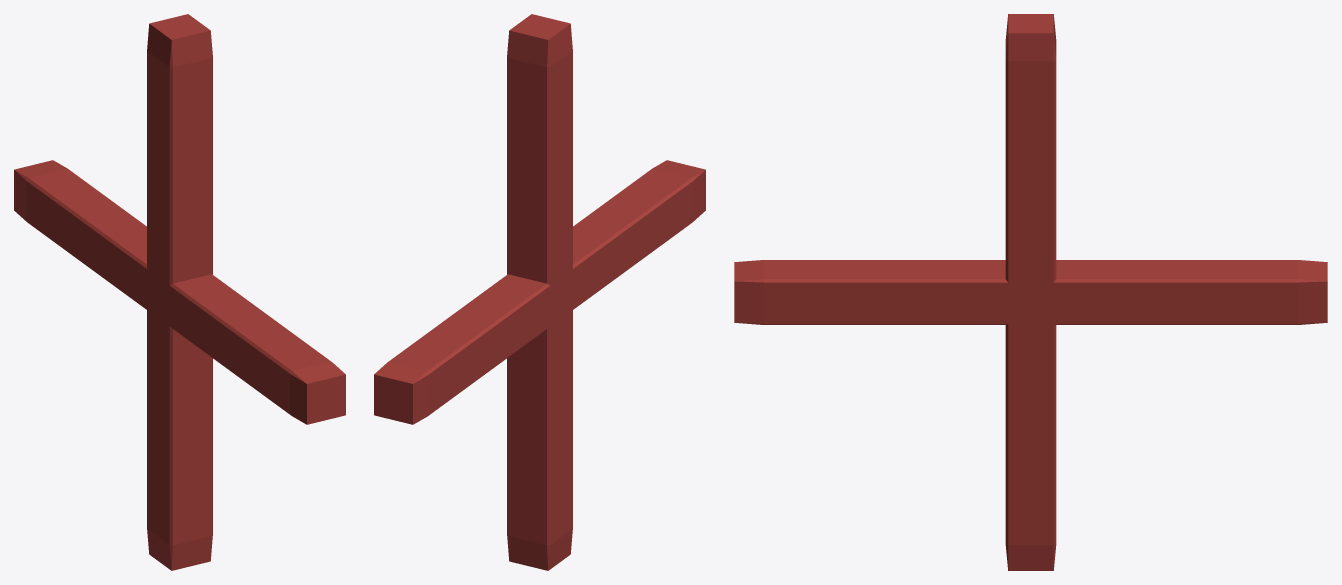
The model's file is Heart.fbx.
The picture shows the model from 3 angles, left to right: view 1: azimuth 30°, elevation 25°; view 2: azimuth 150°, elevation 25°; view 3: azimuth 270°, elevation 25°; orthographic projection.
Visible parts, largest first — view 1: Cube.001; view 2: Cube.001; view 3: Cube.001.
Boxes of the visible parts, x1=… form: Cube.001: x1=14, y1=14, x2=345, y2=570; Cube.001: x1=374, y1=14, x2=705, y2=570; Cube.001: x1=734, y1=14, x2=1327, y2=570.
Bounding box in the file's own units: 40 × 468 × 468.
